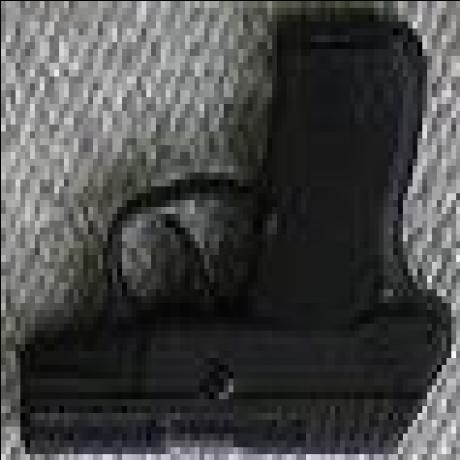weapon: (24, 27, 442, 457)
